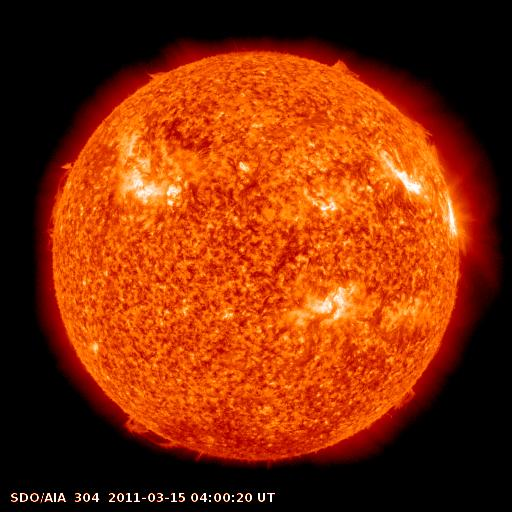prominence: (115, 408, 210, 465), (40, 155, 80, 255), (397, 108, 453, 175), (320, 46, 369, 90), (381, 379, 423, 419), (136, 56, 177, 92)
